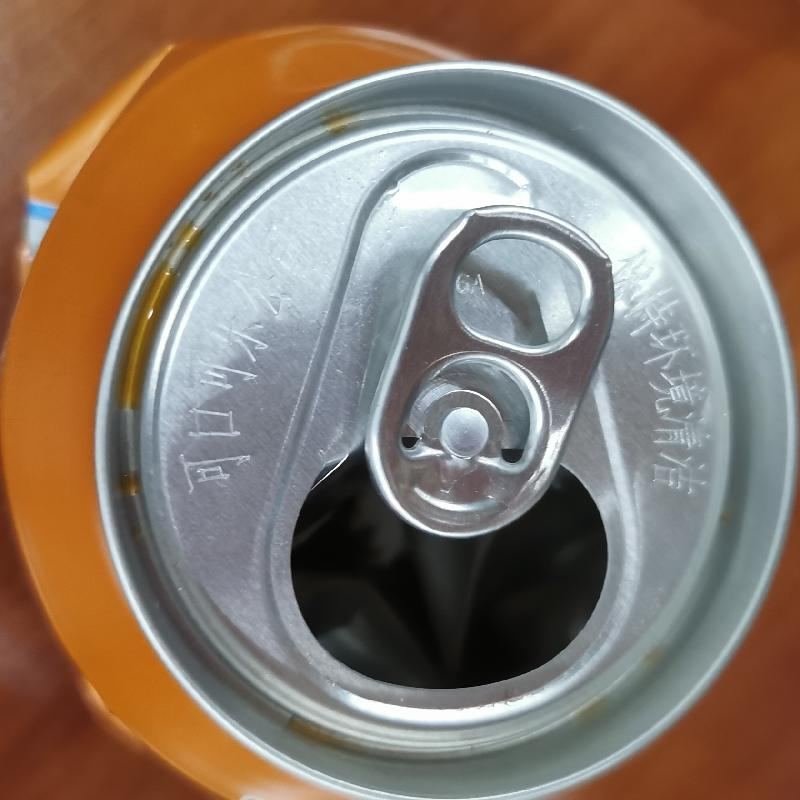cans: (4, 34, 793, 799)
